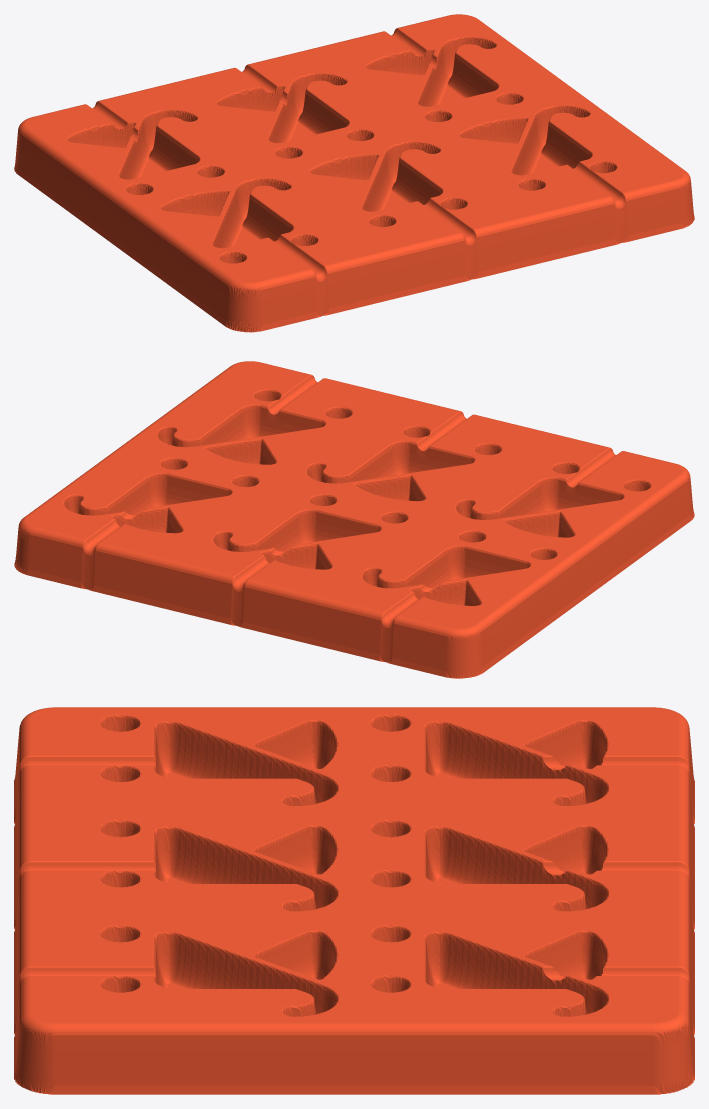
The model's file is mold.glb.
3 renders of one model, top to bottom at view 1: azimuth 30°, elevation 25°; view 2: azimuth 150°, elevation 25°; view 3: azimuth 270°, elevation 25°, orthographic. The views are drawn at different scales.
Parts seen in each view (by area): view 1: geometry_0; view 2: geometry_0; view 3: geometry_0.
Boxes of the visible parts, x1,y1,x2,y2 form: geometry_0: (14, 14, 694, 332); geometry_0: (14, 361, 694, 678); geometry_0: (14, 707, 694, 1094).
Bounding box in the file's own units: 0.1686 × 0.0155 × 0.1477.
